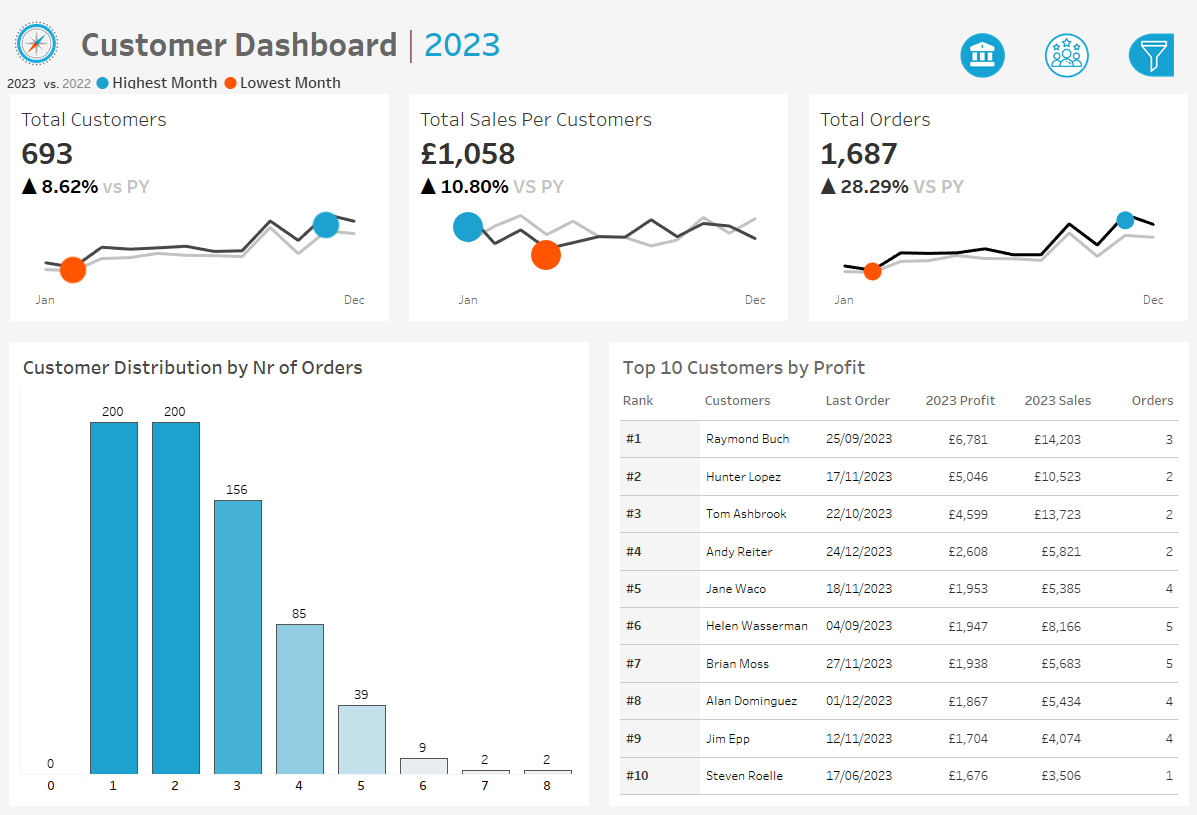

The dashboard page shown, as its layout file describes it:
{"tool":"tableau","page":{"name":"Customer Dashboard","canvas":[1200,800],"ordinal":0},"visuals":[{"type":"image","param":"C:/Users/opeab/OneDrive/Documents/Power BI Projects/Sales-Dashboard-Materials/Sa","box":[0,0,75,54]},{"type":"text","box":[75,0,1125,54]},{"type":"blank","box":[941,10,249,76]},{"type":"dashboard-object","box":[941,12,84,54]},{"type":"dashboard-object","box":[1025,12,84,54]},{"type":"dashboard-object","box":[1109,12,84,54]},{"type":"worksheet","title":"Legend of KPI","mark":"Automatic","box":[0,54,1200,23]},{"type":"worksheet","title":"KPI Customers","mark":"Automatic","rows":["Calculation_1176565403938566190"],"cols":["Order Date"],"box":[1,78,399.3,237]},{"type":"worksheet","title":"KPI Sales Per Customers","mark":"Automatic","rows":["Calculation_1176565403961507897"],"cols":["Order Date"],"box":[400.3,78,399.3,237]},{"type":"worksheet","title":"KPI Orders","mark":"Automatic","rows":["Calculation_1176565403972198463"],"cols":["Order Date"],"box":[799.7,78,399.3,237]},{"type":"text","box":[941,86,249,34]},{"type":"parameter","param":"[Parameters].[Parameter 1]","box":[941,120,249,52]},{"type":"blank","box":[941,172,249,69]},{"type":"text","box":[941,241,249,29]},{"type":"filter","title":"KPI Customers","param":"[federated.07zcjsk0mnj98p1auhlqb0s122b3].[none:Category:nk]","box":[941,270,249,52]},{"type":"filter","title":"KPI Customers","param":"[federated.07zcjsk0mnj98p1auhlqb0s122b3].[none:Sub-Category:nk]","box":[941,322,249,52]},{"type":"text","box":[17,333,566,34]},{"type":"text","box":[617,333,566,34]},{"type":"worksheet","title":"Customer Distribution","mark":"Bar","rows":["Calculation_1176565403757482020"],"cols":["Calculation_1176565403988369474"],"box":[17,367,566,416]},{"type":"text","box":[617,367,82,33]},{"type":"text","box":[699,367,121,33]},{"type":"text","box":[820,367,100,33]},{"type":"text","box":[920,367,99,33]},{"type":"text","box":[1019,367,107,33]},{"type":"text","box":[1126,367,57,33]},{"type":"text","box":[941,374,249,29]},{"type":"worksheet","title":"Top Customers","mark":"Automatic","rows":["Calculation_3885762055177084931","Customer Name","Order Date"],"box":[617,400,566,383]},{"type":"filter","title":"KPI Customers","param":"[federated.07zcjsk0mnj98p1auhlqb0s122b3].[none:Region:nk]","box":[941,403,249,32]},{"type":"filter","title":"KPI Customers","param":"[federated.07zcjsk0mnj98p1auhlqb0s122b3].[none:State:nk]","box":[941,435,249,52]},{"type":"filter","title":"KPI Customers","param":"[federated.07zcjsk0mnj98p1auhlqb0s122b3].[none:City:nk]","box":[941,487,249,52]}]}

Visuals, with their boxes in screenshot pixels (x1, y1, x2, y2), scaled from the page's 1200x800 canvas onto the 1197x815 screenshot:
image: <bbox>0, 0, 75, 55</bbox>
text: <bbox>75, 0, 1196, 55</bbox>
blank: <bbox>939, 10, 1187, 88</bbox>
dashboard-object: <bbox>939, 12, 1022, 67</bbox>
dashboard-object: <bbox>1022, 12, 1106, 67</bbox>
dashboard-object: <bbox>1106, 12, 1190, 67</bbox>
"Legend of KPI" worksheet: <bbox>0, 55, 1196, 78</bbox>
"KPI Customers" worksheet: <bbox>1, 79, 399, 321</bbox>
"KPI Sales Per Customers" worksheet: <bbox>399, 79, 798, 321</bbox>
"KPI Orders" worksheet: <bbox>798, 79, 1196, 321</bbox>
text: <bbox>939, 88, 1187, 122</bbox>
parameter: <bbox>939, 122, 1187, 175</bbox>
blank: <bbox>939, 175, 1187, 246</bbox>
text: <bbox>939, 246, 1187, 275</bbox>
"KPI Customers" filter: <bbox>939, 275, 1187, 328</bbox>
"KPI Customers" filter: <bbox>939, 328, 1187, 381</bbox>
text: <bbox>17, 339, 582, 374</bbox>
text: <bbox>615, 339, 1180, 374</bbox>
"Customer Distribution" worksheet (Bar marks): <bbox>17, 374, 582, 798</bbox>
text: <bbox>615, 374, 697, 408</bbox>
text: <bbox>697, 374, 818, 408</bbox>
text: <bbox>818, 374, 918, 408</bbox>
text: <bbox>918, 374, 1016, 408</bbox>
text: <bbox>1016, 374, 1123, 408</bbox>
text: <bbox>1123, 374, 1180, 408</bbox>
text: <bbox>939, 381, 1187, 411</bbox>
"Top Customers" worksheet: <bbox>615, 408, 1180, 798</bbox>
"KPI Customers" filter: <bbox>939, 411, 1187, 443</bbox>
"KPI Customers" filter: <bbox>939, 443, 1187, 496</bbox>
"KPI Customers" filter: <bbox>939, 496, 1187, 549</bbox>
